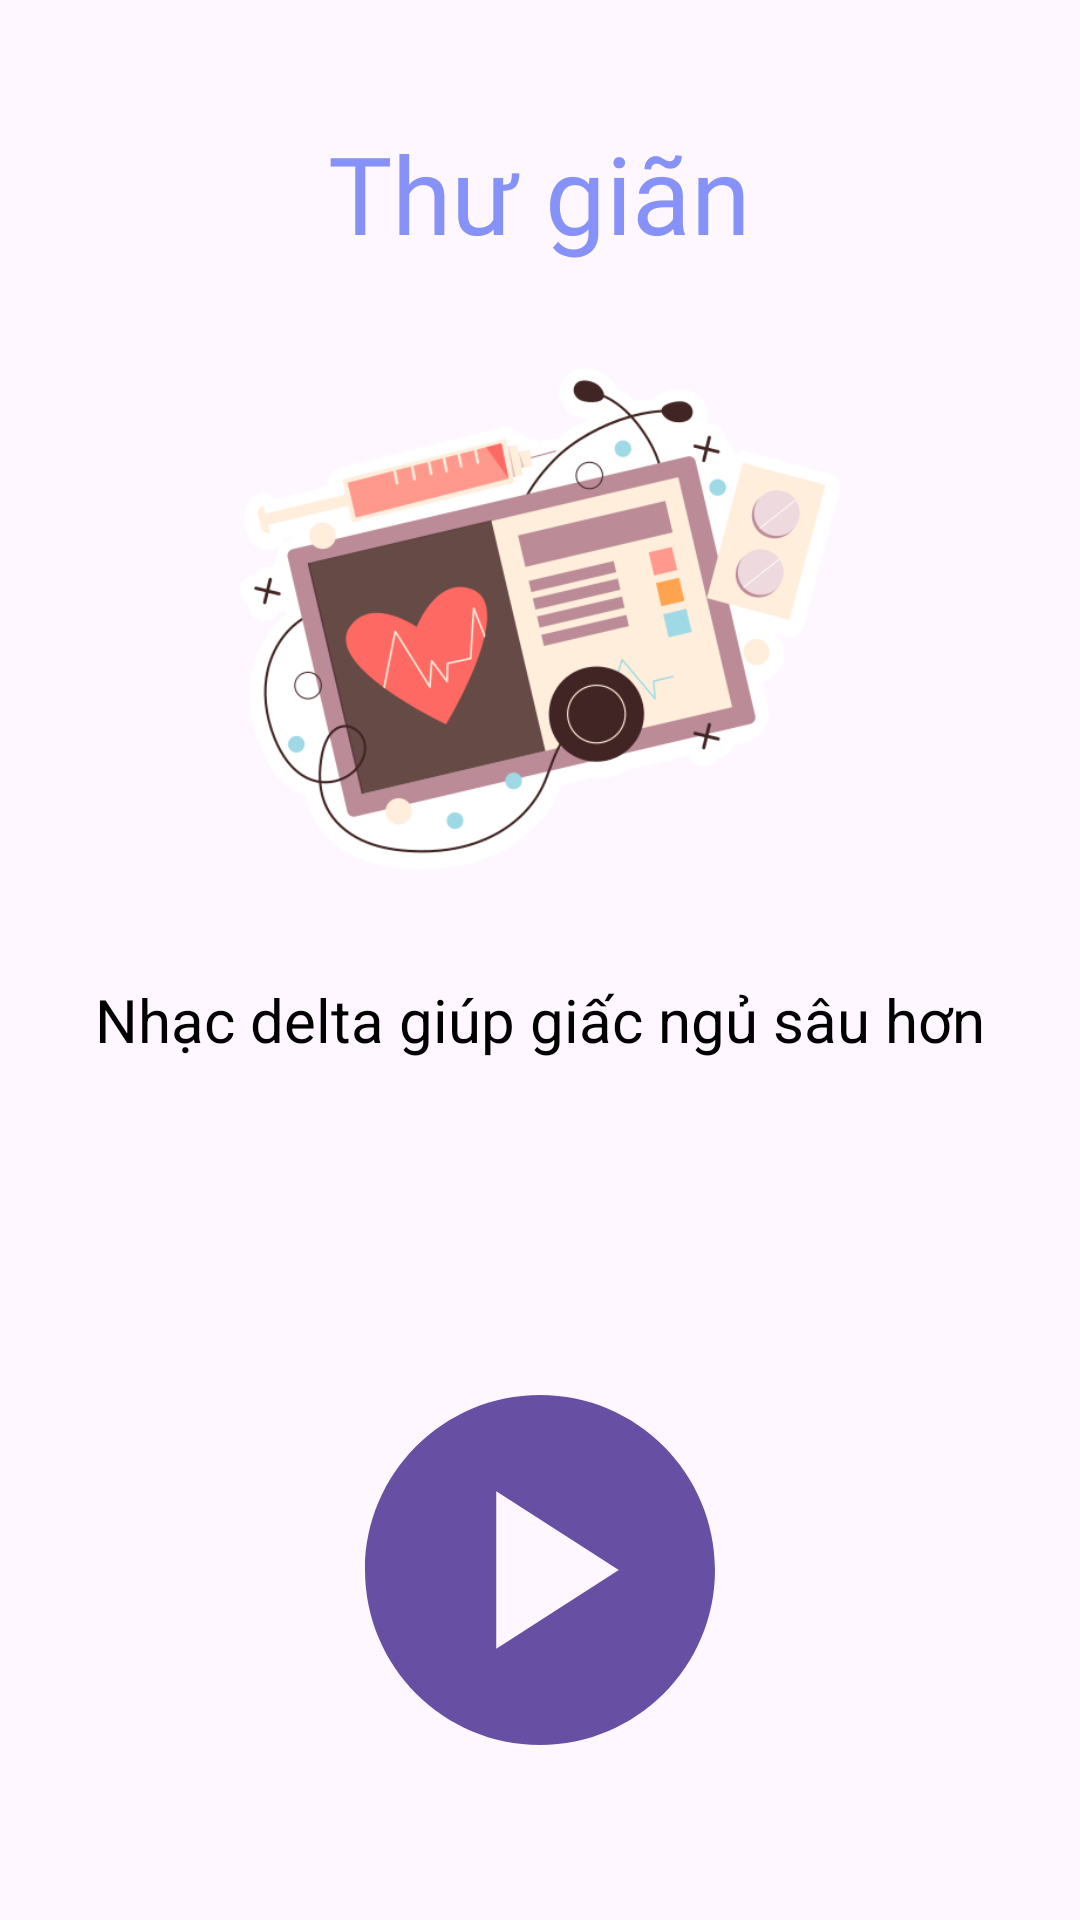

Icon bounding boxes for this 1080 × 1920 phone screenshot, format Rect(x1, y1, x2, y2):
play circle: Rect(365, 1395, 715, 1745)
